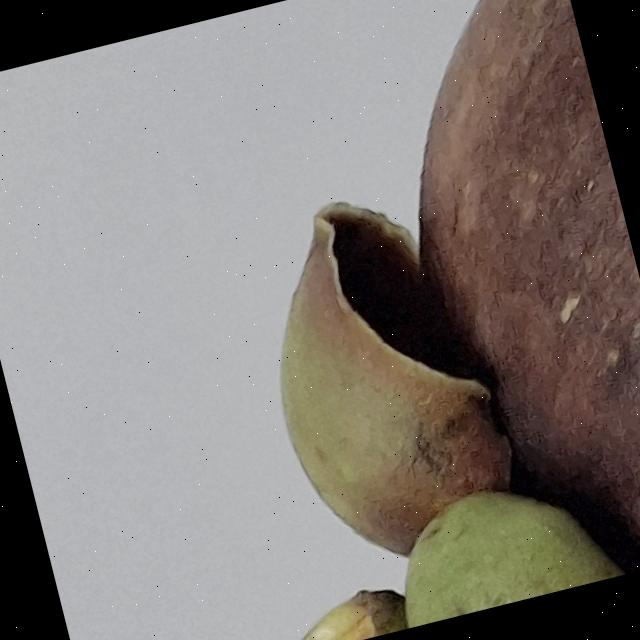mangosteen: (39, 0, 640, 640)
